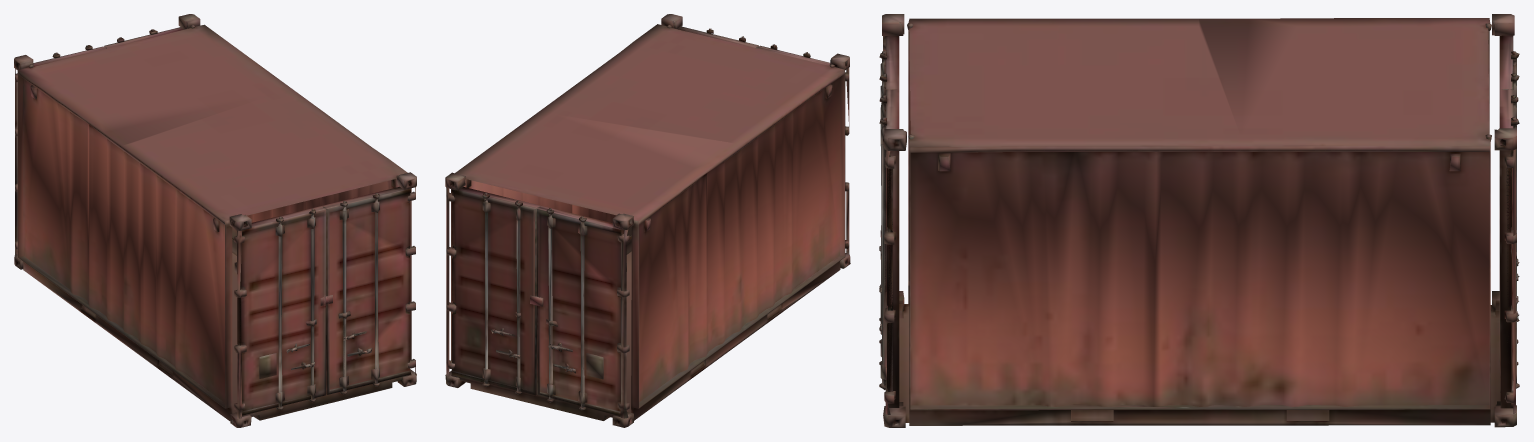
File: prop-container.glb
3 renders of one model, left to right at view 1: azimuth 30°, elevation 25°; view 2: azimuth 150°, elevation 25°; view 3: azimuth 270°, elevation 25°, orthographic. The views are drawn at different scales.
Parts seen in each view (by area): view 1: Shipping container; view 2: Shipping container; view 3: Shipping container.
Boxes of the visible parts, x1,y1,x2,y2 form: Shipping container: (14, 14, 416, 427); Shipping container: (445, 14, 850, 427); Shipping container: (879, 14, 1519, 427).
Bounding box in the file's own units: 0.4746 × 0.498 × 0.998.
1 material, 1 textured.
